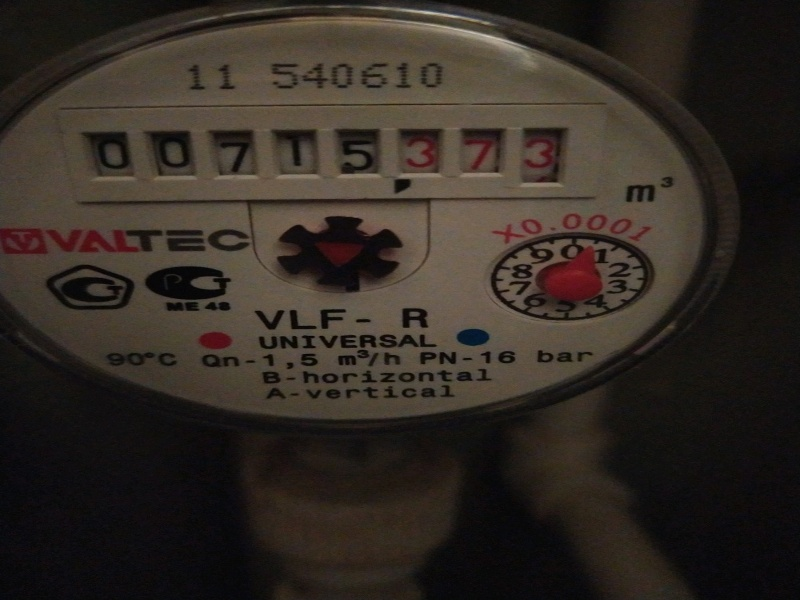dial: (65, 112, 575, 194)
